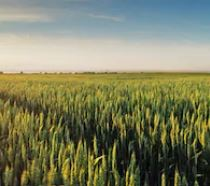Wheat: (153, 86, 207, 136)
